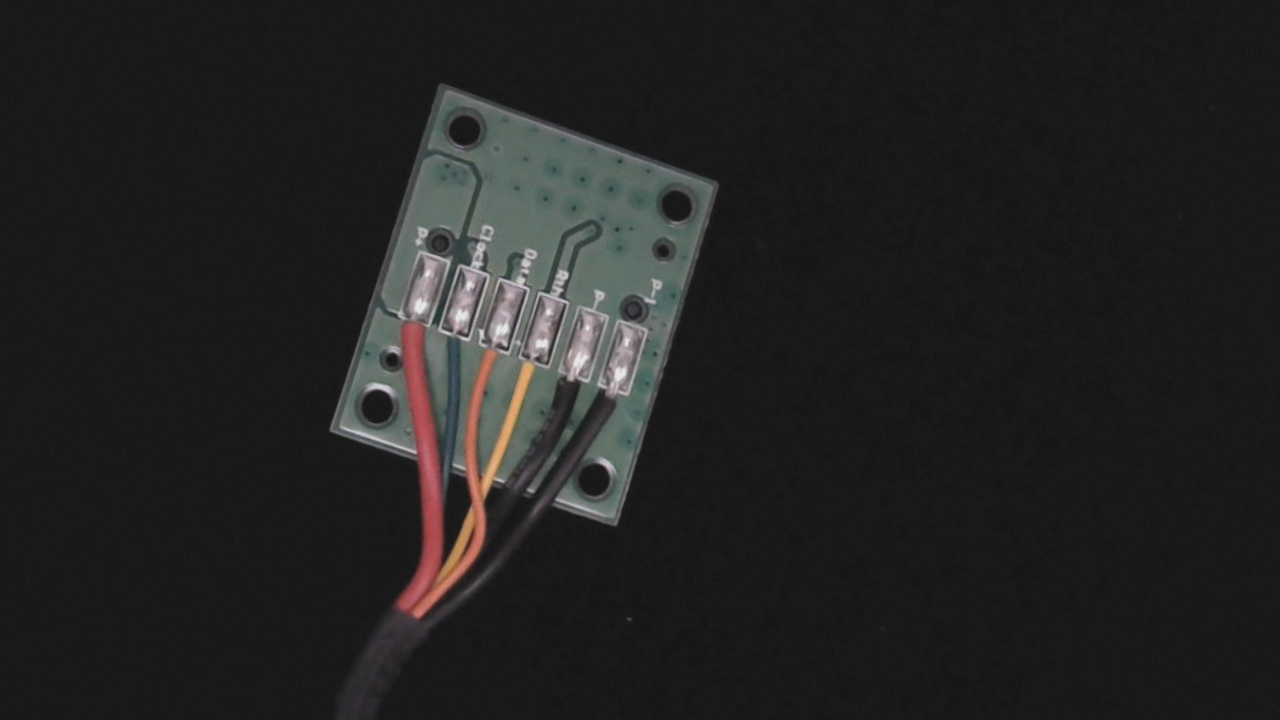Black: (537, 358, 595, 441)
Black1: (581, 371, 635, 449)
Green: (423, 312, 478, 386)
Orange: (458, 328, 515, 412)
Red: (382, 298, 438, 373)
Yellow: (495, 342, 557, 426)
